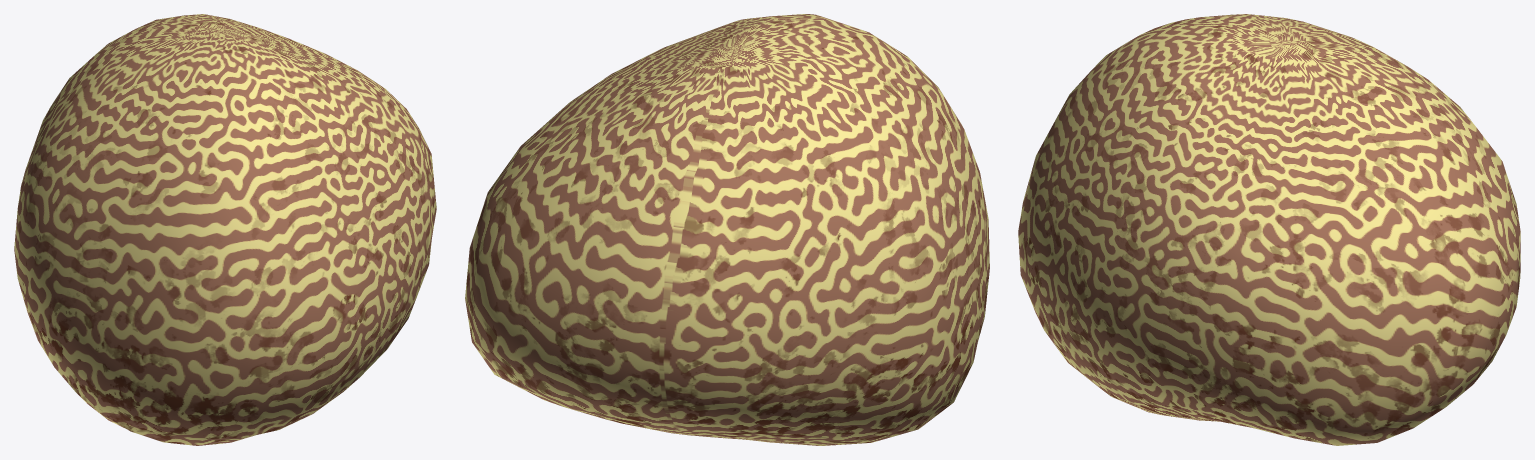
File: BrainCoral00.fbx
The picture shows the model from 3 angles, left to right: view 1: azimuth 30°, elevation 25°; view 2: azimuth 150°, elevation 25°; view 3: azimuth 270°, elevation 25°; orthographic projection. The views are drawn at different scales.
Parts seen in each view (by area): view 1: BrainCoral00; view 2: BrainCoral00; view 3: BrainCoral00.
Boxes of the visible parts, x1,y1,x2,y2 form: BrainCoral00: [14, 14, 436, 445]; BrainCoral00: [465, 14, 989, 445]; BrainCoral00: [1018, 14, 1520, 445].
Bounding box in the file's own units: 3.87 × 3.46 × 4.1.
